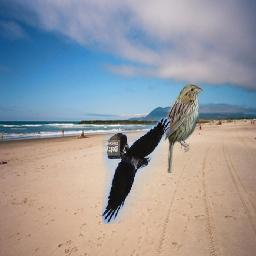Crow: (102, 118, 170, 225)
Sparrow: (161, 83, 204, 173)
